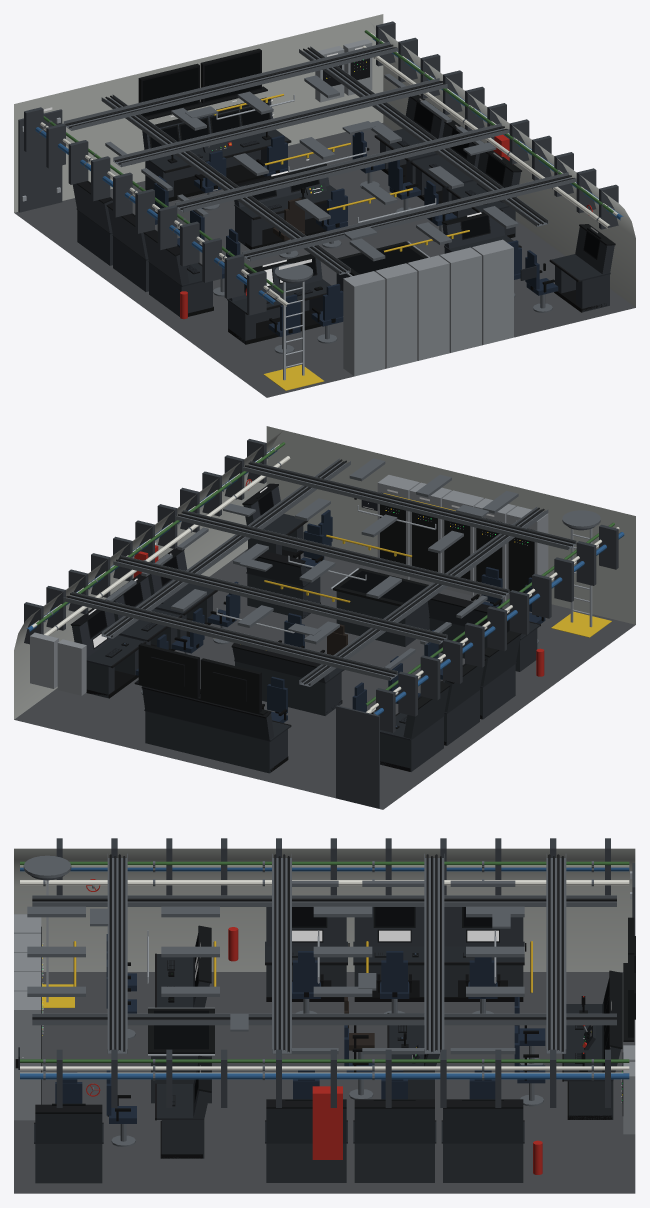
Rendered from ssn_control.glb.
The picture shows the model from 3 angles, top to bottom: view 1: azimuth 30°, elevation 25°; view 2: azimuth 150°, elevation 25°; view 3: azimuth 270°, elevation 25°; orthographic projection. The views are drawn at different scales.
Visible parts, largest first — view 1: static, screen_vlsd_2, screen_vlsd_1, exit_ladder, screen_nav; view 2: static, exit_ladder, screen_nav; view 3: static, screen_nav, exit_ladder, screen_sonar_tac, screen_sonar_nb.
Part boxes in pixels (x1,y1,x2,y2): static: (14,14,635,397); screen_vlsd_2: (204,52,260,101); screen_vlsd_1: (142,67,198,116); exit_ladder: (274,263,313,380); screen_nav: (340,244,423,274); static: (14,426,635,809); exit_ladder: (562,510,600,627); screen_nav: (340,571,426,602); static: (14,838,635,1193); screen_nav: (154,1010,208,1049); exit_ladder: (23,855,71,1002); screen_sonar_tac: (375,907,414,926); screen_sonar_nb: (292,907,325,926).
Size of the model in its own units: 8.6 by 2.58 by 10.21.
